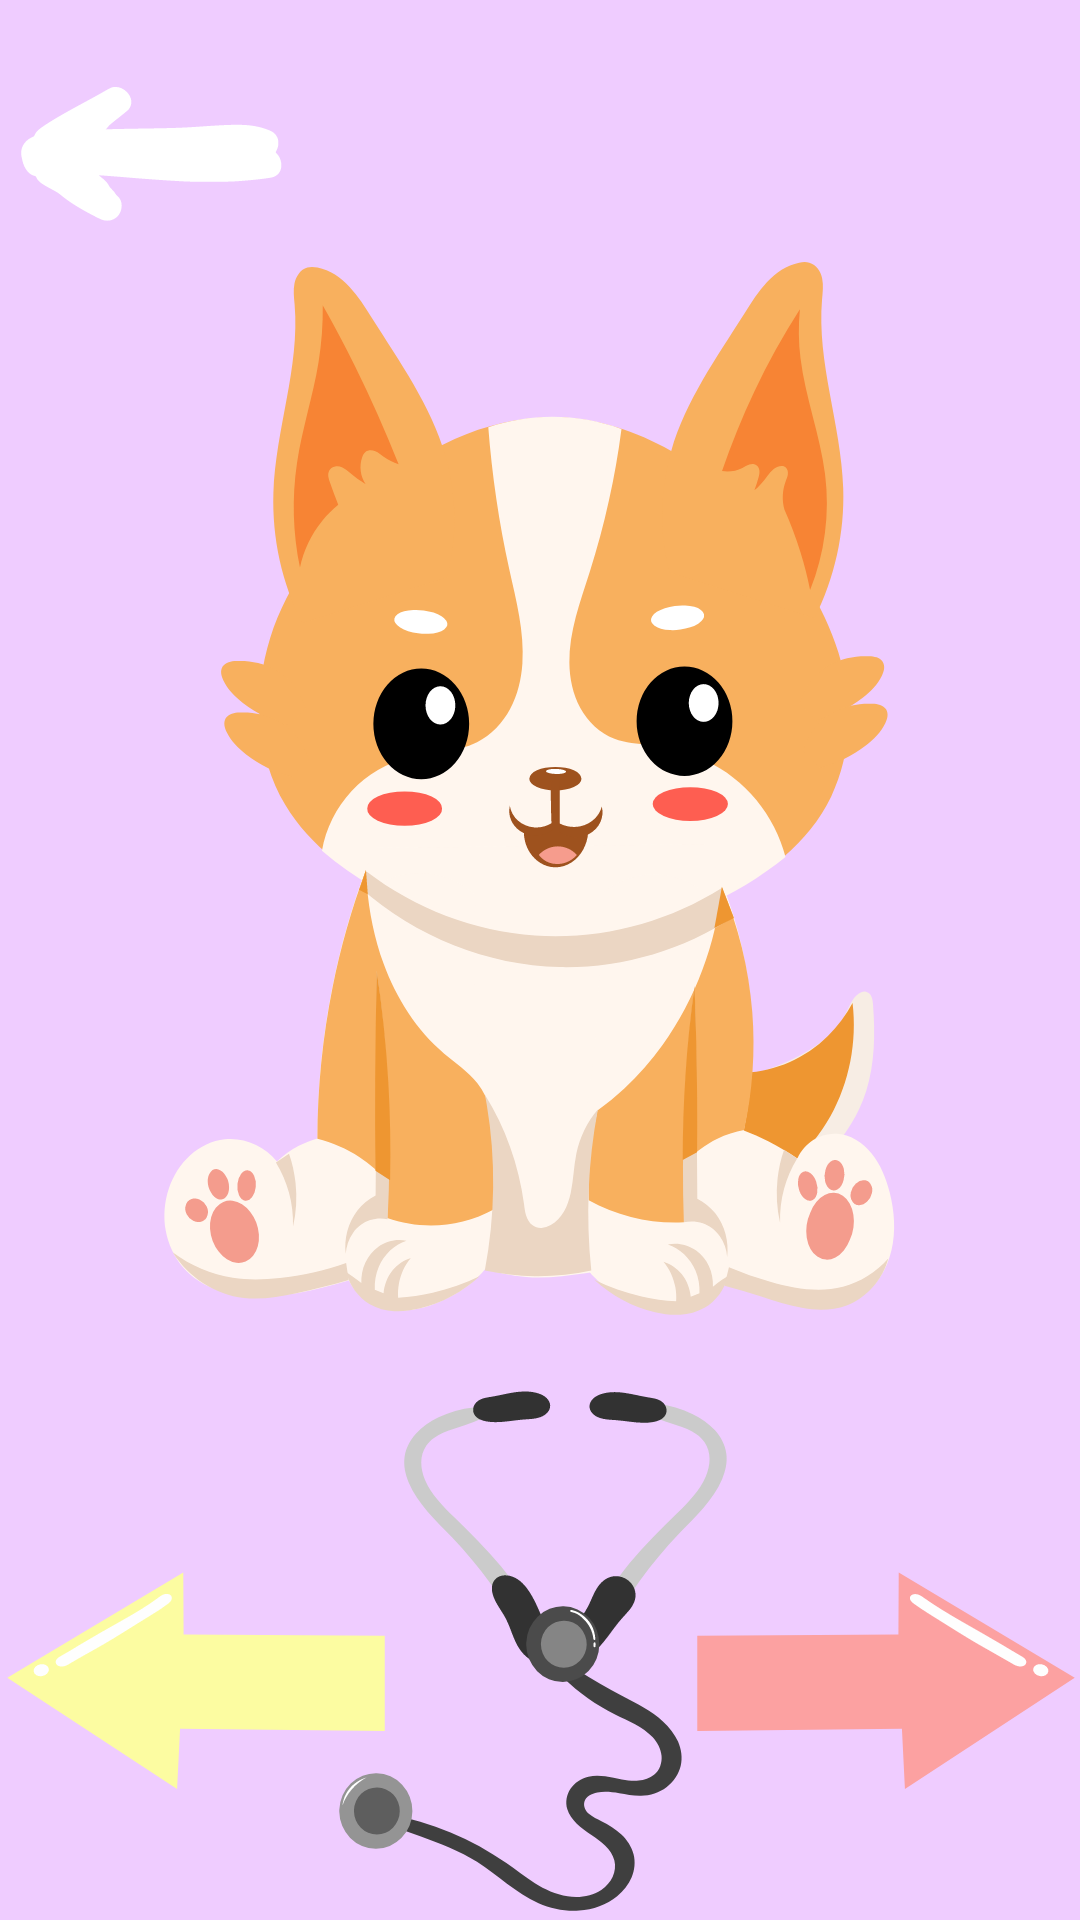

Locate icon controls on the screen. Image size 1080×1920, boxes as detection(x1, y1, x2, y2).
backarrow: detection(21, 87, 281, 221)
